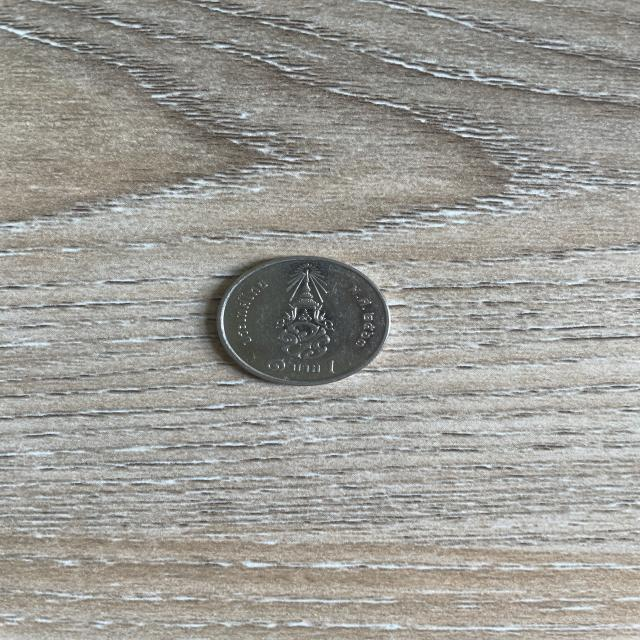1 Bath: (188, 249, 422, 394)
